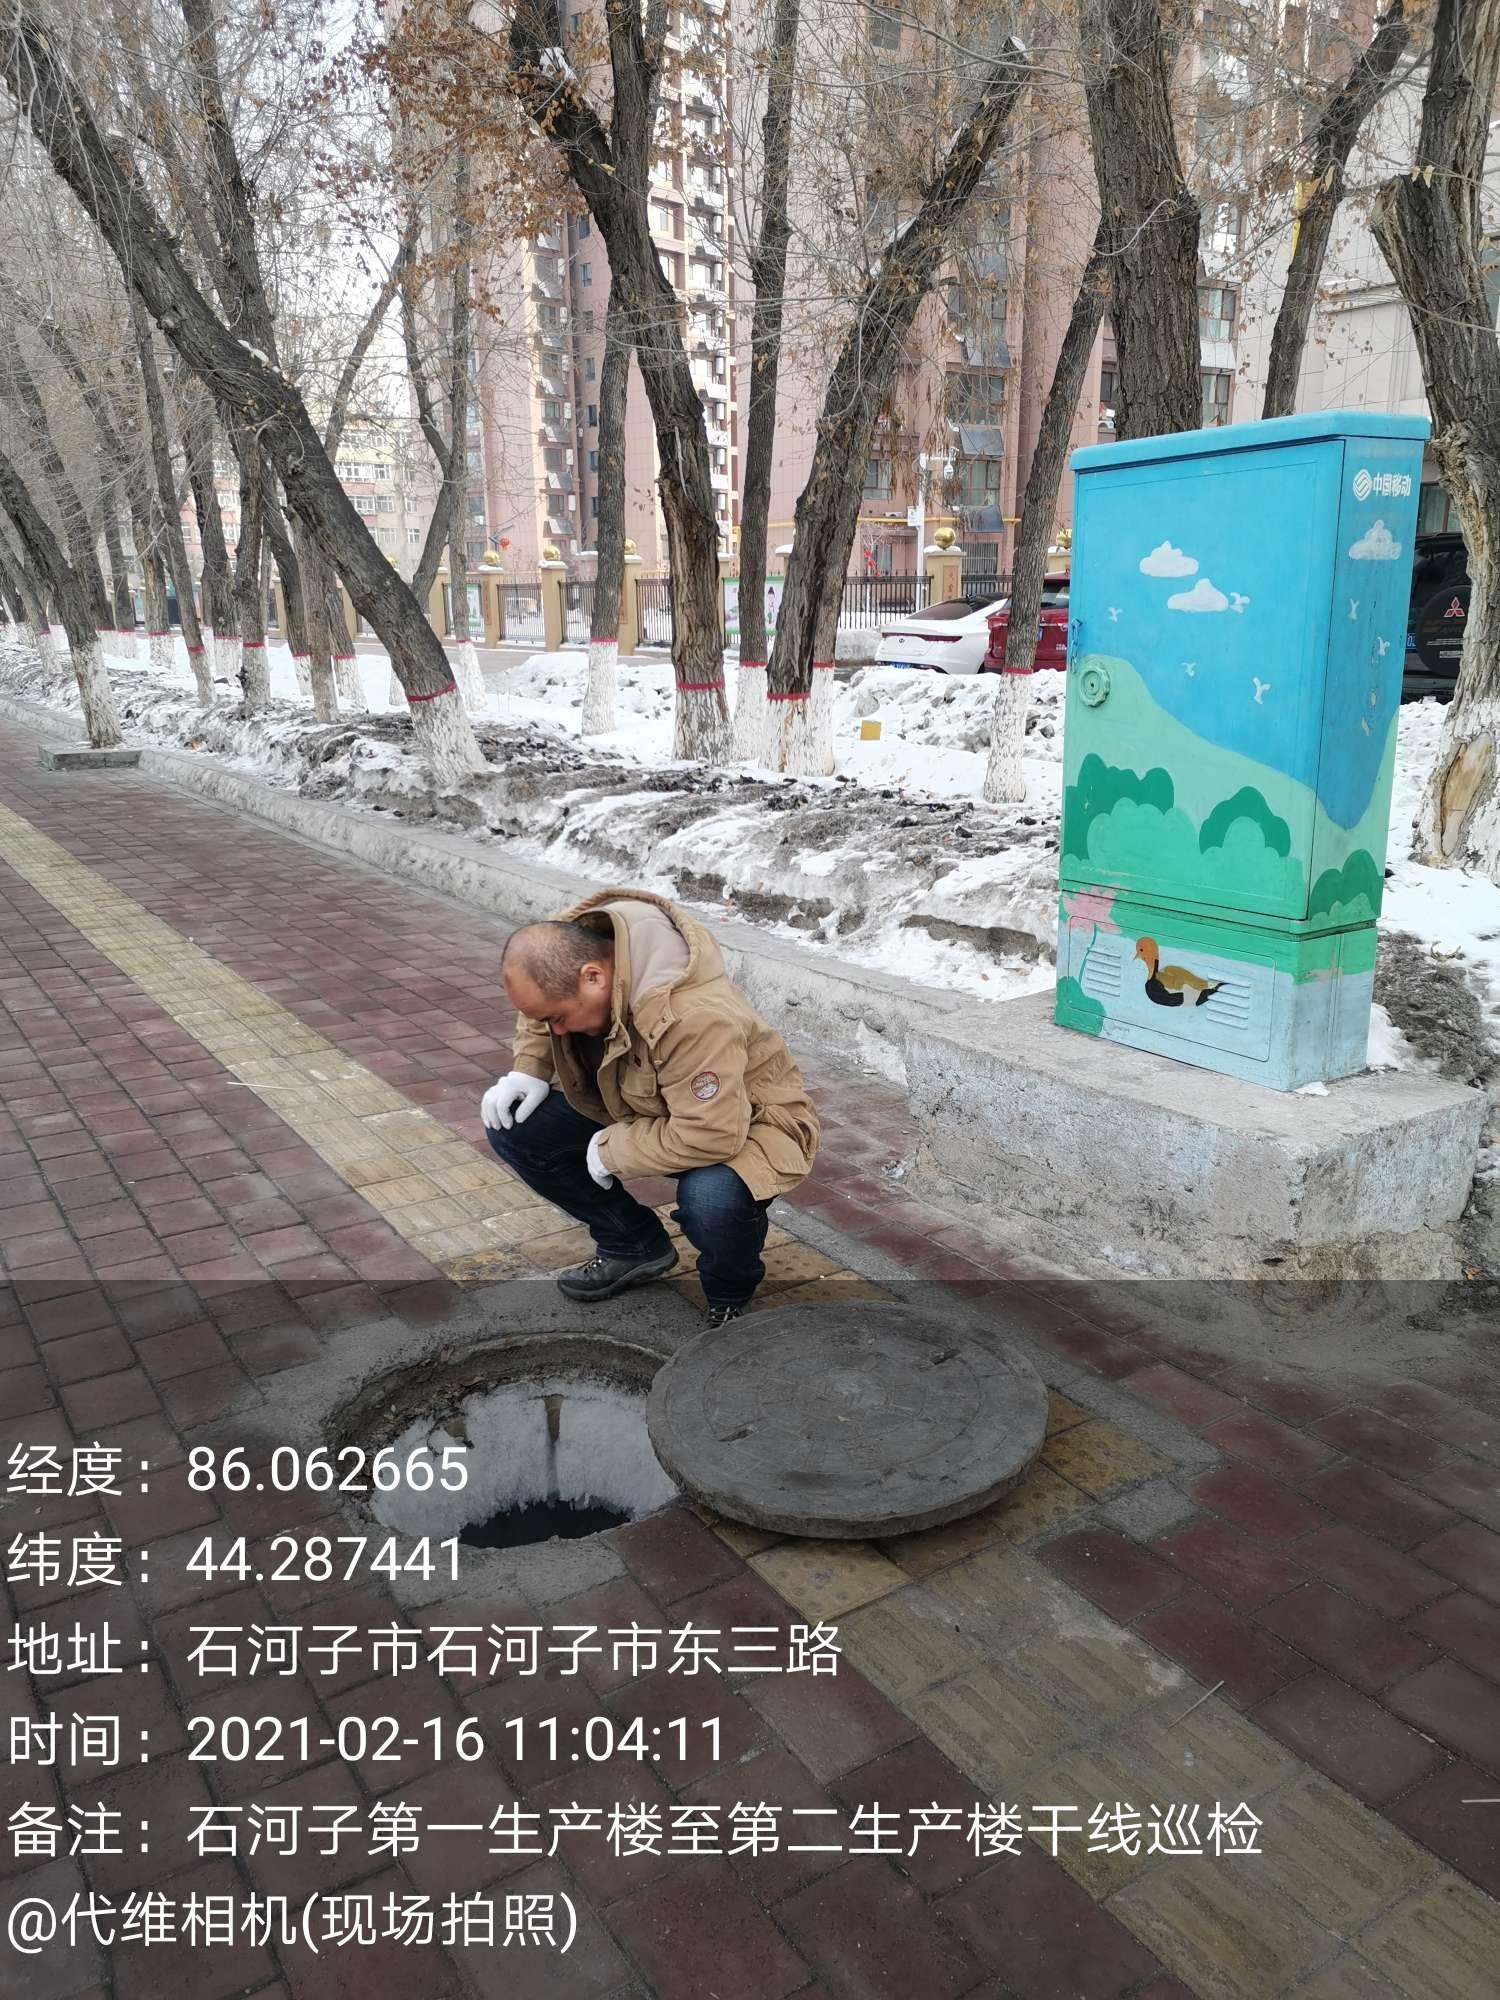wellcover: (254, 1318, 1150, 1591)
